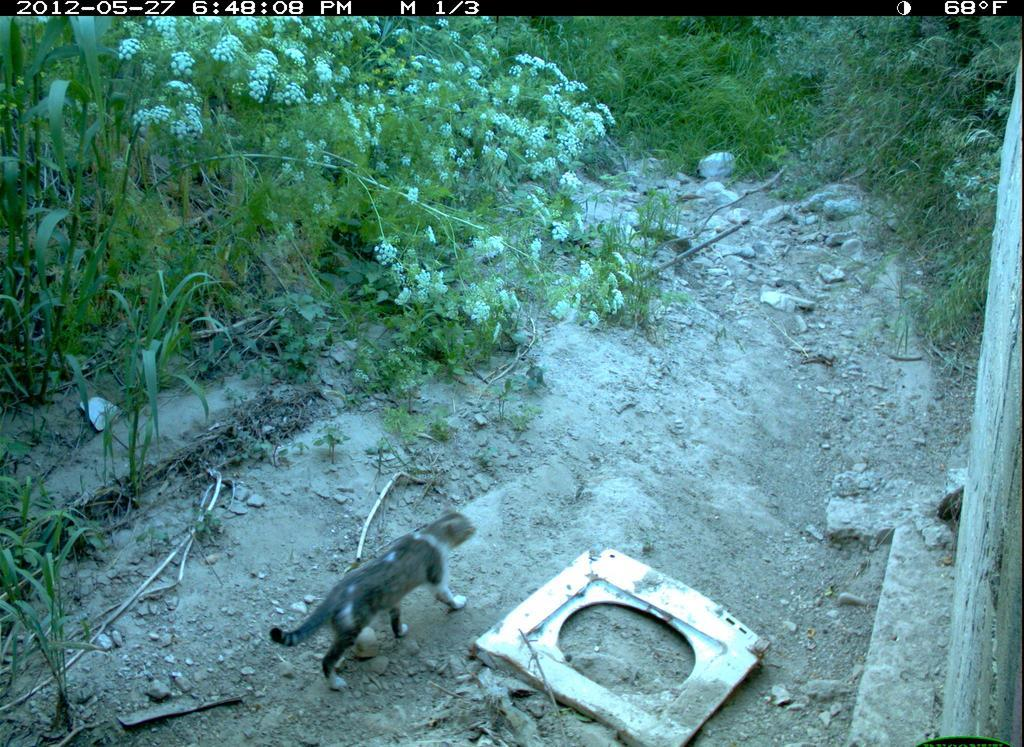cat: (271, 483, 487, 698)
